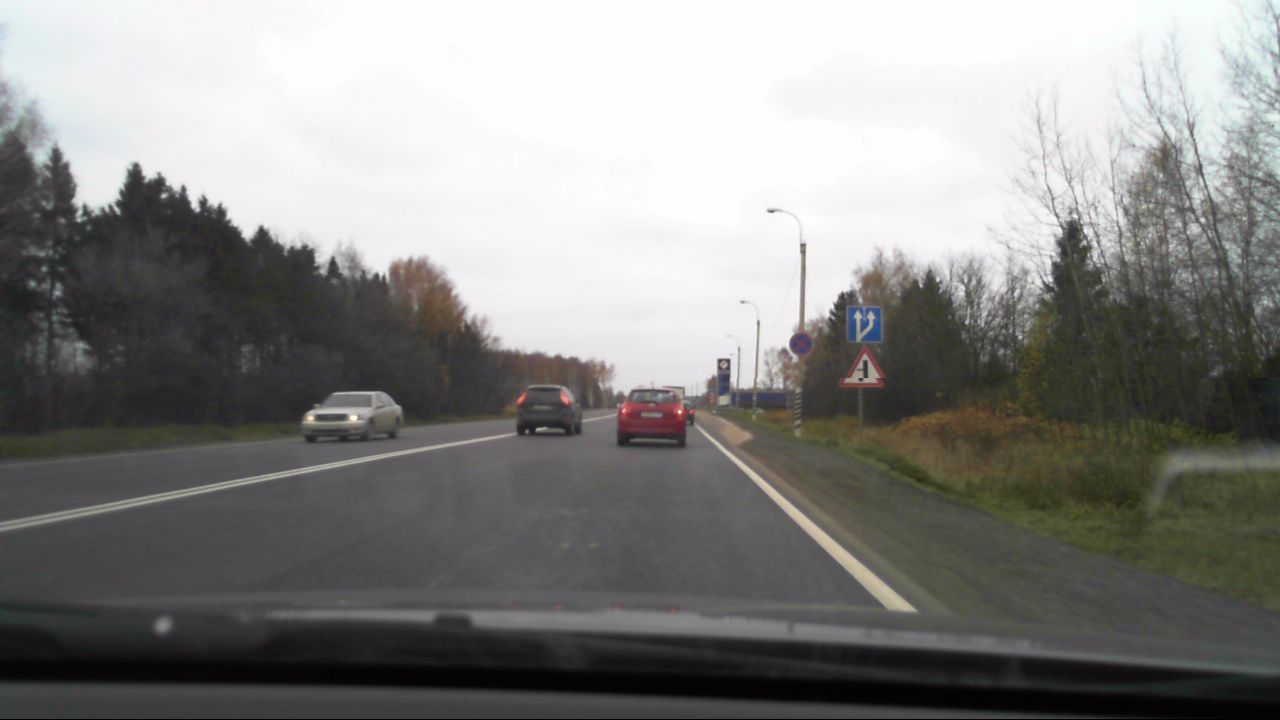No Parking: (785, 329, 815, 357)
